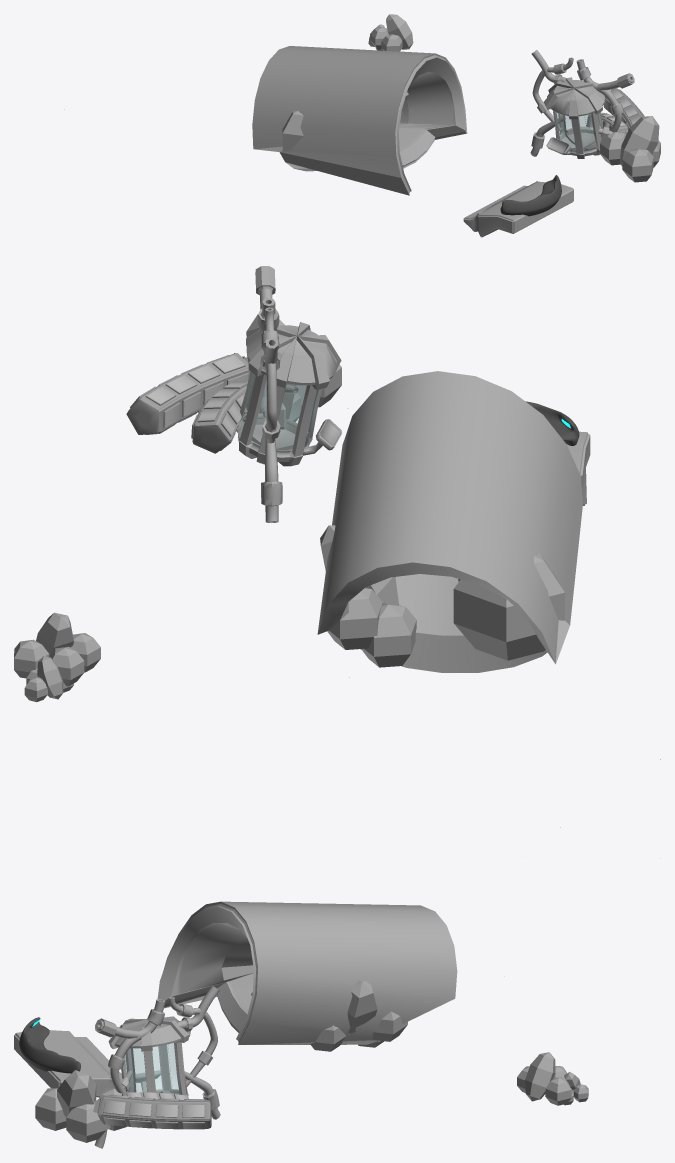
File: Scene001_INT_Cave_Base_Shot005_009.fbx
3 renders of one model, top to bottom at view 1: azimuth 30°, elevation 25°; view 2: azimuth 150°, elevation 25°; view 3: azimuth 270°, elevation 25°, orthographic. The views are drawn at different scales.
Visible parts, largest first — view 1: pCylinder4, Yasuek_Chamber, yasuke_Wire_00, pCube6, Computer, TempRock7, TempRock5, Power_Cell_T_01, TempRock1, TempRock4, TempRock3, Power_Cell_T_02; view 2: pCylinder4, Yasuek_Chamber, TempRock1 (×2), Power_Cell_T_01, yasuke_Wire_00, TempRock2 (×2), Power_Cell_T_02, TempRock, TempRock3 (×2), Computer; view 3: pCylinder4, Yasuek_Chamber, yasuke_Wire_00, Power_Cell_T_01, pCube6, TempRock3 (×2), Computer, TempRock7, TempRock1 (×2), TempRock6, TempRock5, TempRock.
Part boxes in pixels (box(x1,y1,x2,y2)): pCylinder4: box(252, 46, 467, 195); Yasuek_Chamber: box(543, 77, 604, 158); yasuke_Wire_00: box(530, 50, 634, 156); pCube6: box(463, 181, 573, 237); Computer: box(500, 175, 561, 216); TempRock7: box(620, 116, 659, 166); TempRock5: box(622, 148, 653, 182); Power_Cell_T_01: box(603, 88, 644, 130); TempRock1: box(282, 110, 303, 151); TempRock4: box(600, 131, 625, 165); TempRock3: box(386, 14, 413, 49); Power_Cell_T_02: box(586, 112, 627, 134); pCylinder4: box(317, 371, 582, 672); Yasuek_Chamber: box(236, 322, 341, 466); TempRock1 (×2): box(14, 553, 564, 678); Power_Cell_T_01: box(126, 353, 250, 434); yasuke_Wire_00: box(255, 266, 298, 522); TempRock2 (×2): box(49, 602, 416, 686); Power_Cell_T_02: box(191, 381, 247, 453); TempRock: box(327, 588, 382, 649); TempRock3 (×2): box(36, 525, 398, 655); Computer: box(525, 401, 579, 445); pCylinder4: box(157, 901, 457, 1044); Yasuek_Chamber: box(108, 1016, 190, 1096); yasuke_Wire_00: box(94, 985, 220, 1148); Power_Cell_T_01: box(93, 1094, 211, 1129); pCube6: box(14, 1030, 127, 1097); TempRock3 (×2): box(347, 980, 555, 1101); Computer: box(19, 1017, 80, 1073); TempRock7: box(57, 1070, 96, 1117); TempRock1 (×2): box(310, 1025, 571, 1105); TempRock6: box(66, 1101, 106, 1142); TempRock5: box(35, 1088, 66, 1130); TempRock: box(372, 1011, 407, 1041).
Size of the model in its own units: 620 by 177 by 642.
